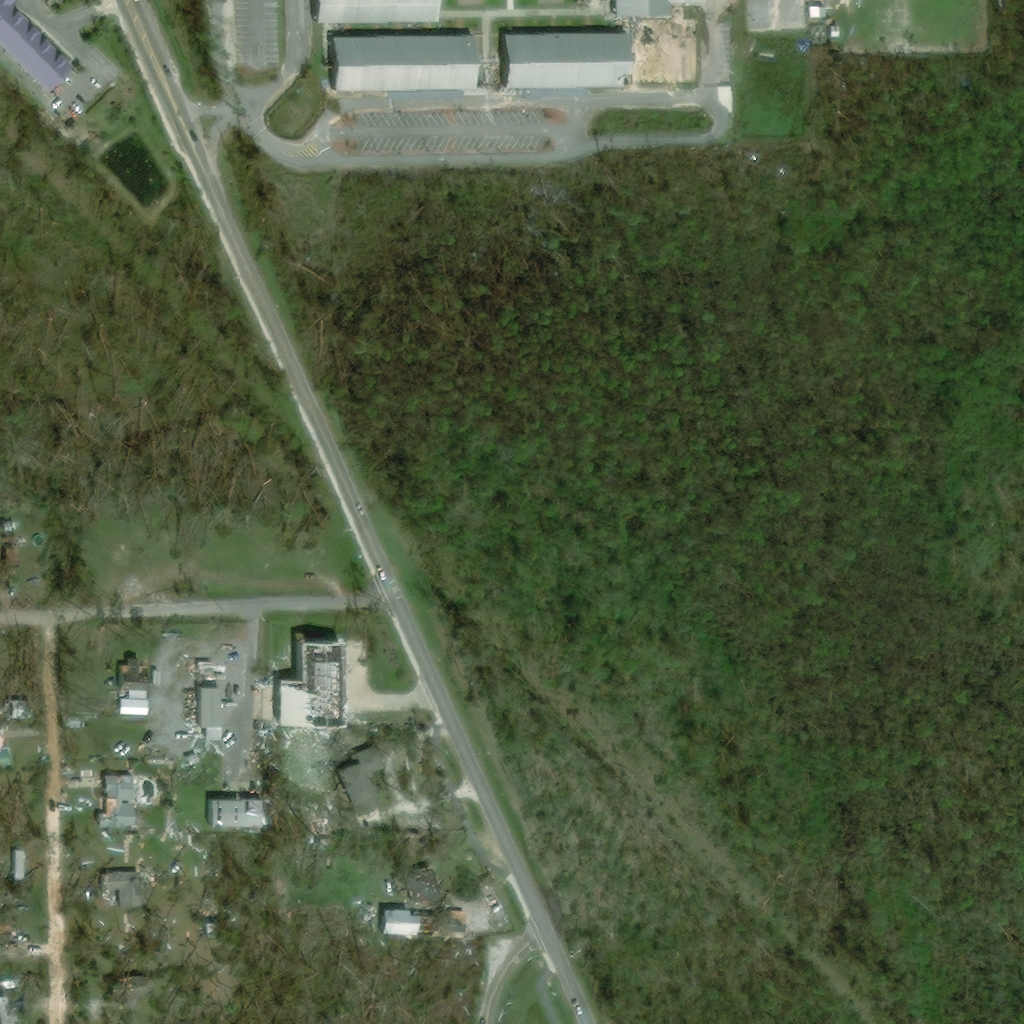destroyed: (479, 882, 507, 926)
major_damage: (376, 908, 464, 935), (403, 864, 442, 904), (186, 660, 215, 684)
minor_damage: (333, 744, 401, 820), (183, 686, 220, 743), (101, 778, 140, 827), (103, 974, 149, 1001), (119, 659, 149, 699), (0, 996, 9, 1015)
no_damage: (323, 32, 627, 92), (0, 0, 73, 92), (310, 0, 435, 24), (203, 782, 255, 832), (607, 0, 667, 16), (11, 849, 25, 902), (4, 701, 33, 716), (119, 703, 149, 716), (809, 0, 826, 18), (829, 26, 841, 40)
